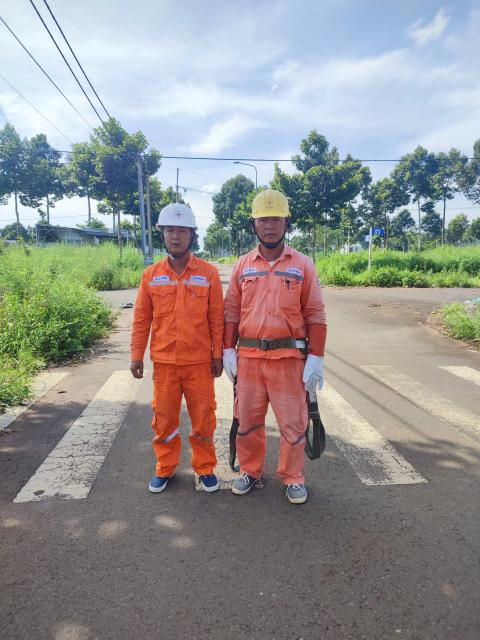gloves: (219, 347, 246, 386), (306, 353, 333, 392)
harness: (223, 320, 317, 358)
helmet: (243, 182, 297, 223), (148, 192, 198, 234)
shoes: (227, 463, 265, 499), (146, 462, 178, 493), (282, 476, 310, 509), (192, 466, 225, 490)
